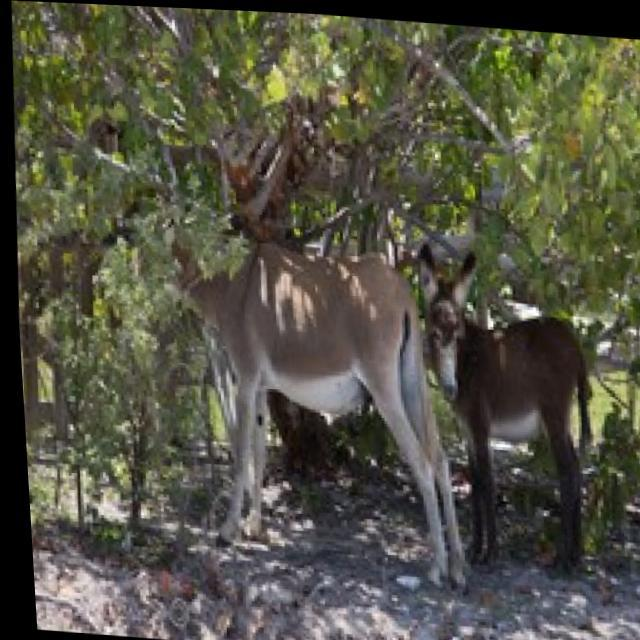Donkey: (20, 62, 484, 588), (402, 234, 604, 569)
